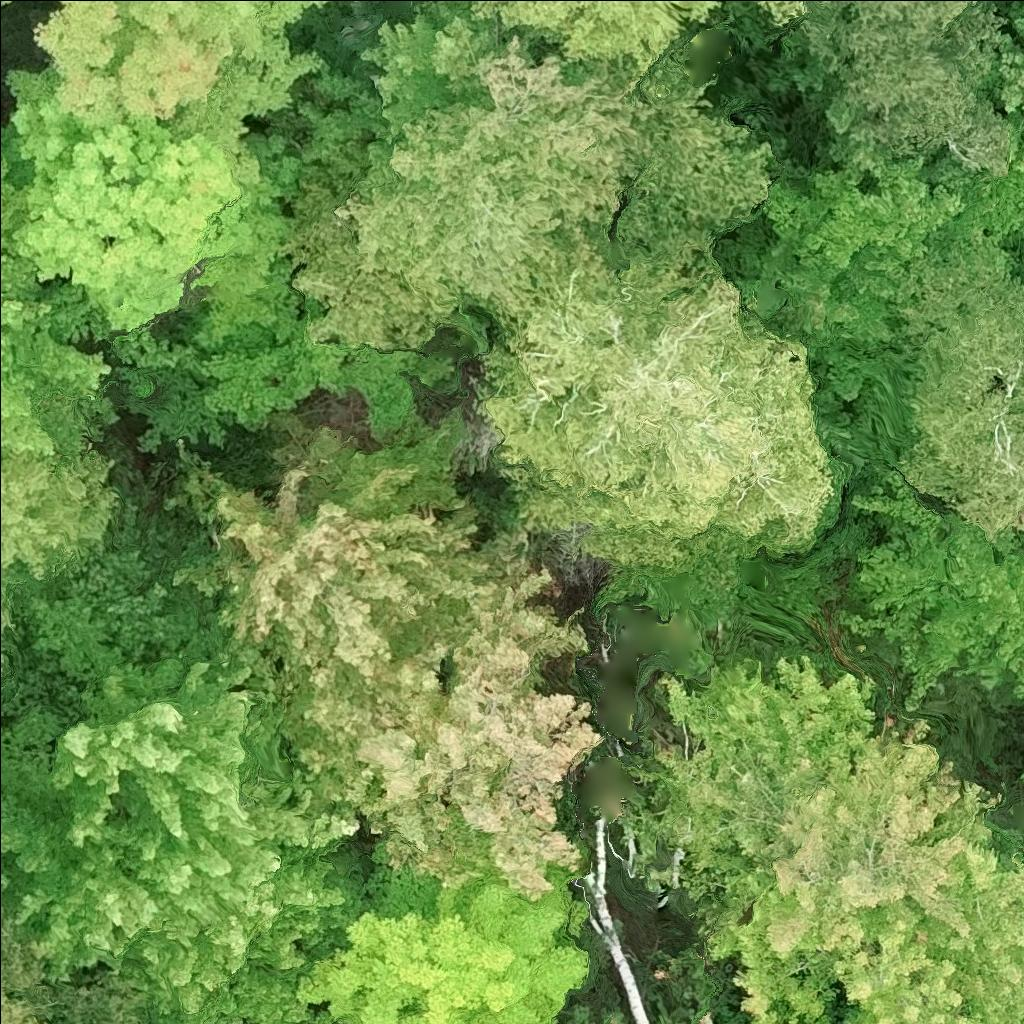crown: (209, 444, 608, 904), (0, 604, 367, 1023), (614, 649, 1023, 1023), (478, 226, 855, 604), (348, 11, 652, 320), (0, 63, 255, 334), (32, 0, 364, 192), (287, 839, 595, 1023), (183, 65, 381, 348), (831, 472, 1023, 713), (795, 0, 1019, 178), (0, 153, 121, 461), (887, 271, 1023, 542), (599, 55, 776, 262), (283, 135, 430, 322), (409, 0, 720, 79), (765, 150, 967, 267), (765, 22, 897, 172), (0, 443, 125, 593), (199, 316, 350, 433), (0, 917, 149, 1023), (987, 0, 1023, 121), (739, 1006, 835, 1023), (755, 0, 807, 26), (0, 602, 17, 673), (841, 1003, 894, 1023), (0, 869, 15, 899), (1021, 772, 1023, 779)
